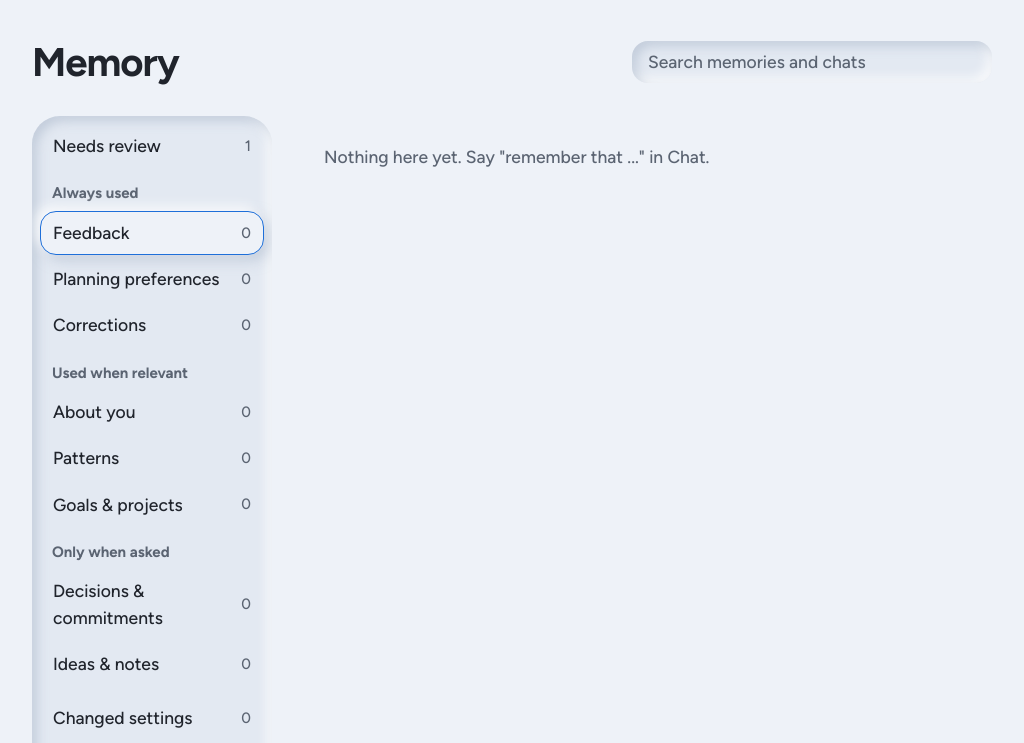
Test: MemoryPage › hides Needs review at zero and shows it with a count otherwise
The width and height of the screenshot is (1024, 743).
Click the button "Needs review 1".
click(152, 146)  # box [40, 124, 264, 168]
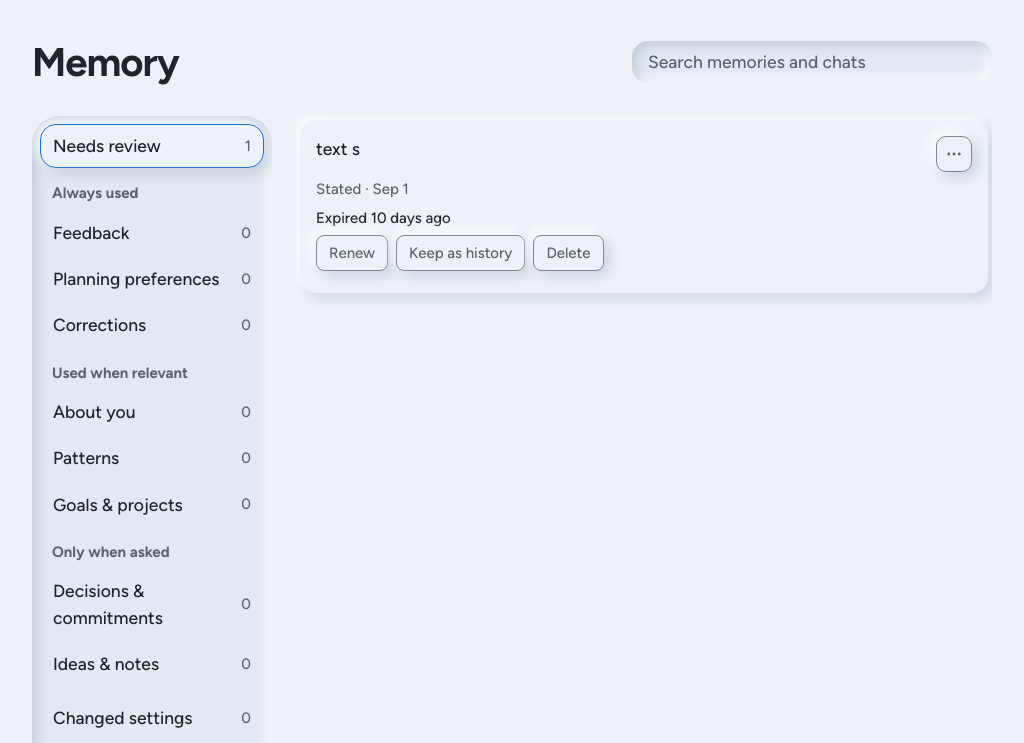
Now the text "Expired 10 days ago" is shown, box [316, 208, 451, 226]
Now the button "text s" is shown, box [316, 136, 892, 162]
